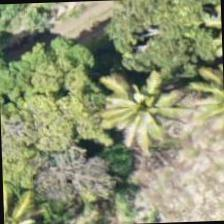Kelapa_Sawit: (93, 58, 186, 150), (51, 0, 145, 87)
